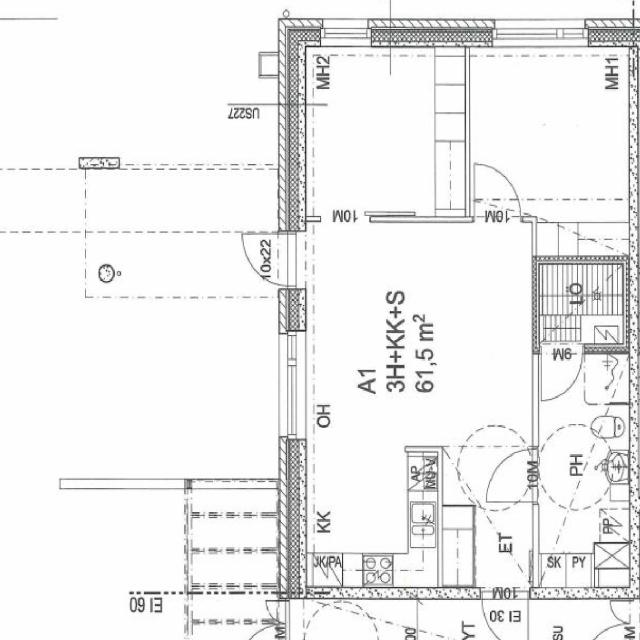door: (485, 449, 538, 502), (242, 234, 296, 286), (474, 164, 520, 222), (482, 591, 528, 640), (542, 346, 582, 400)
